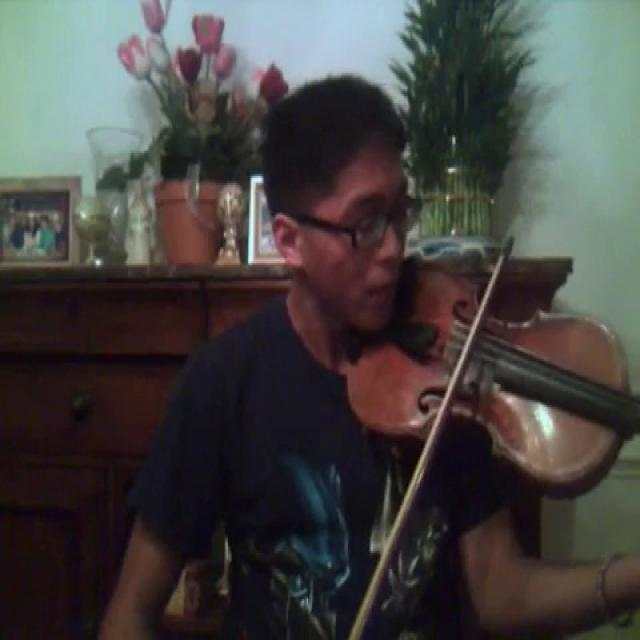Violin: (338, 239, 640, 504)
